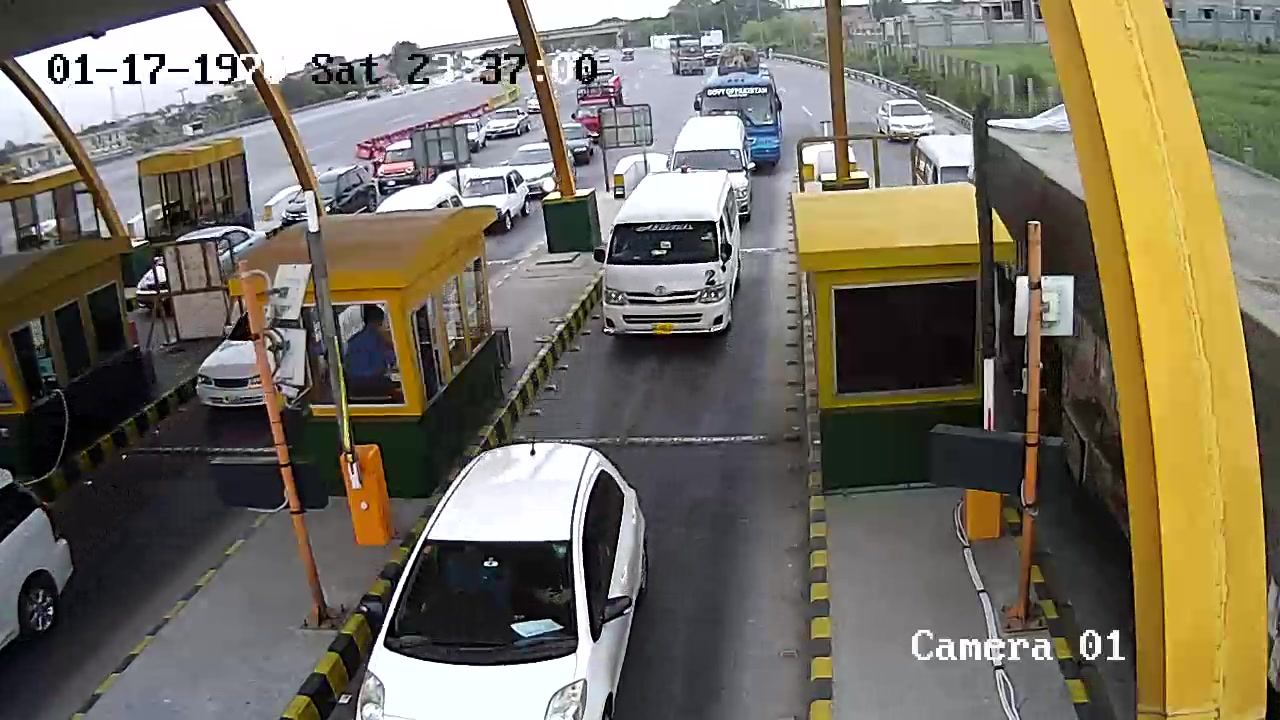F3: (587, 163, 751, 354)
